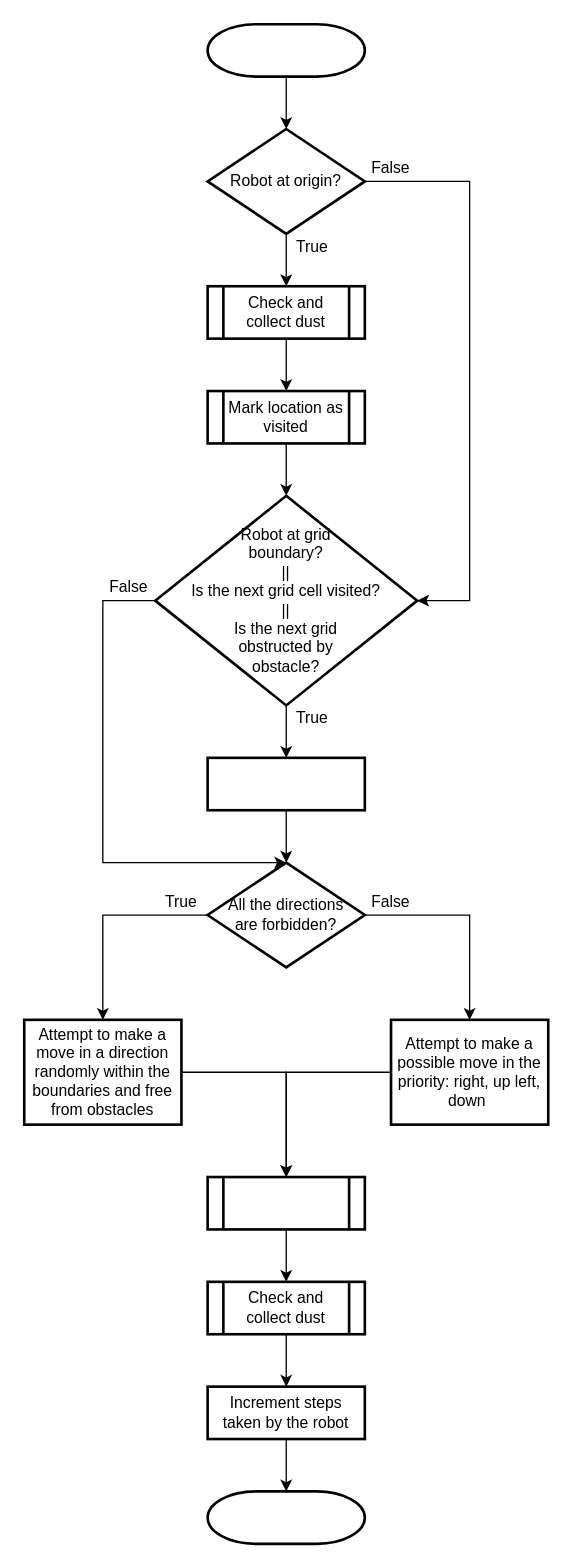
This 571x1567 diagram has some shape labels left out. Here are the shapes that lost their labels. From the top down, the centre of each, then its label:
At [285,49]: "Start".
At [285,783]: "Mark next cell as forbidden".
At [285,1202]: "Mark the location as visited".
At [285,1516]: "End".
